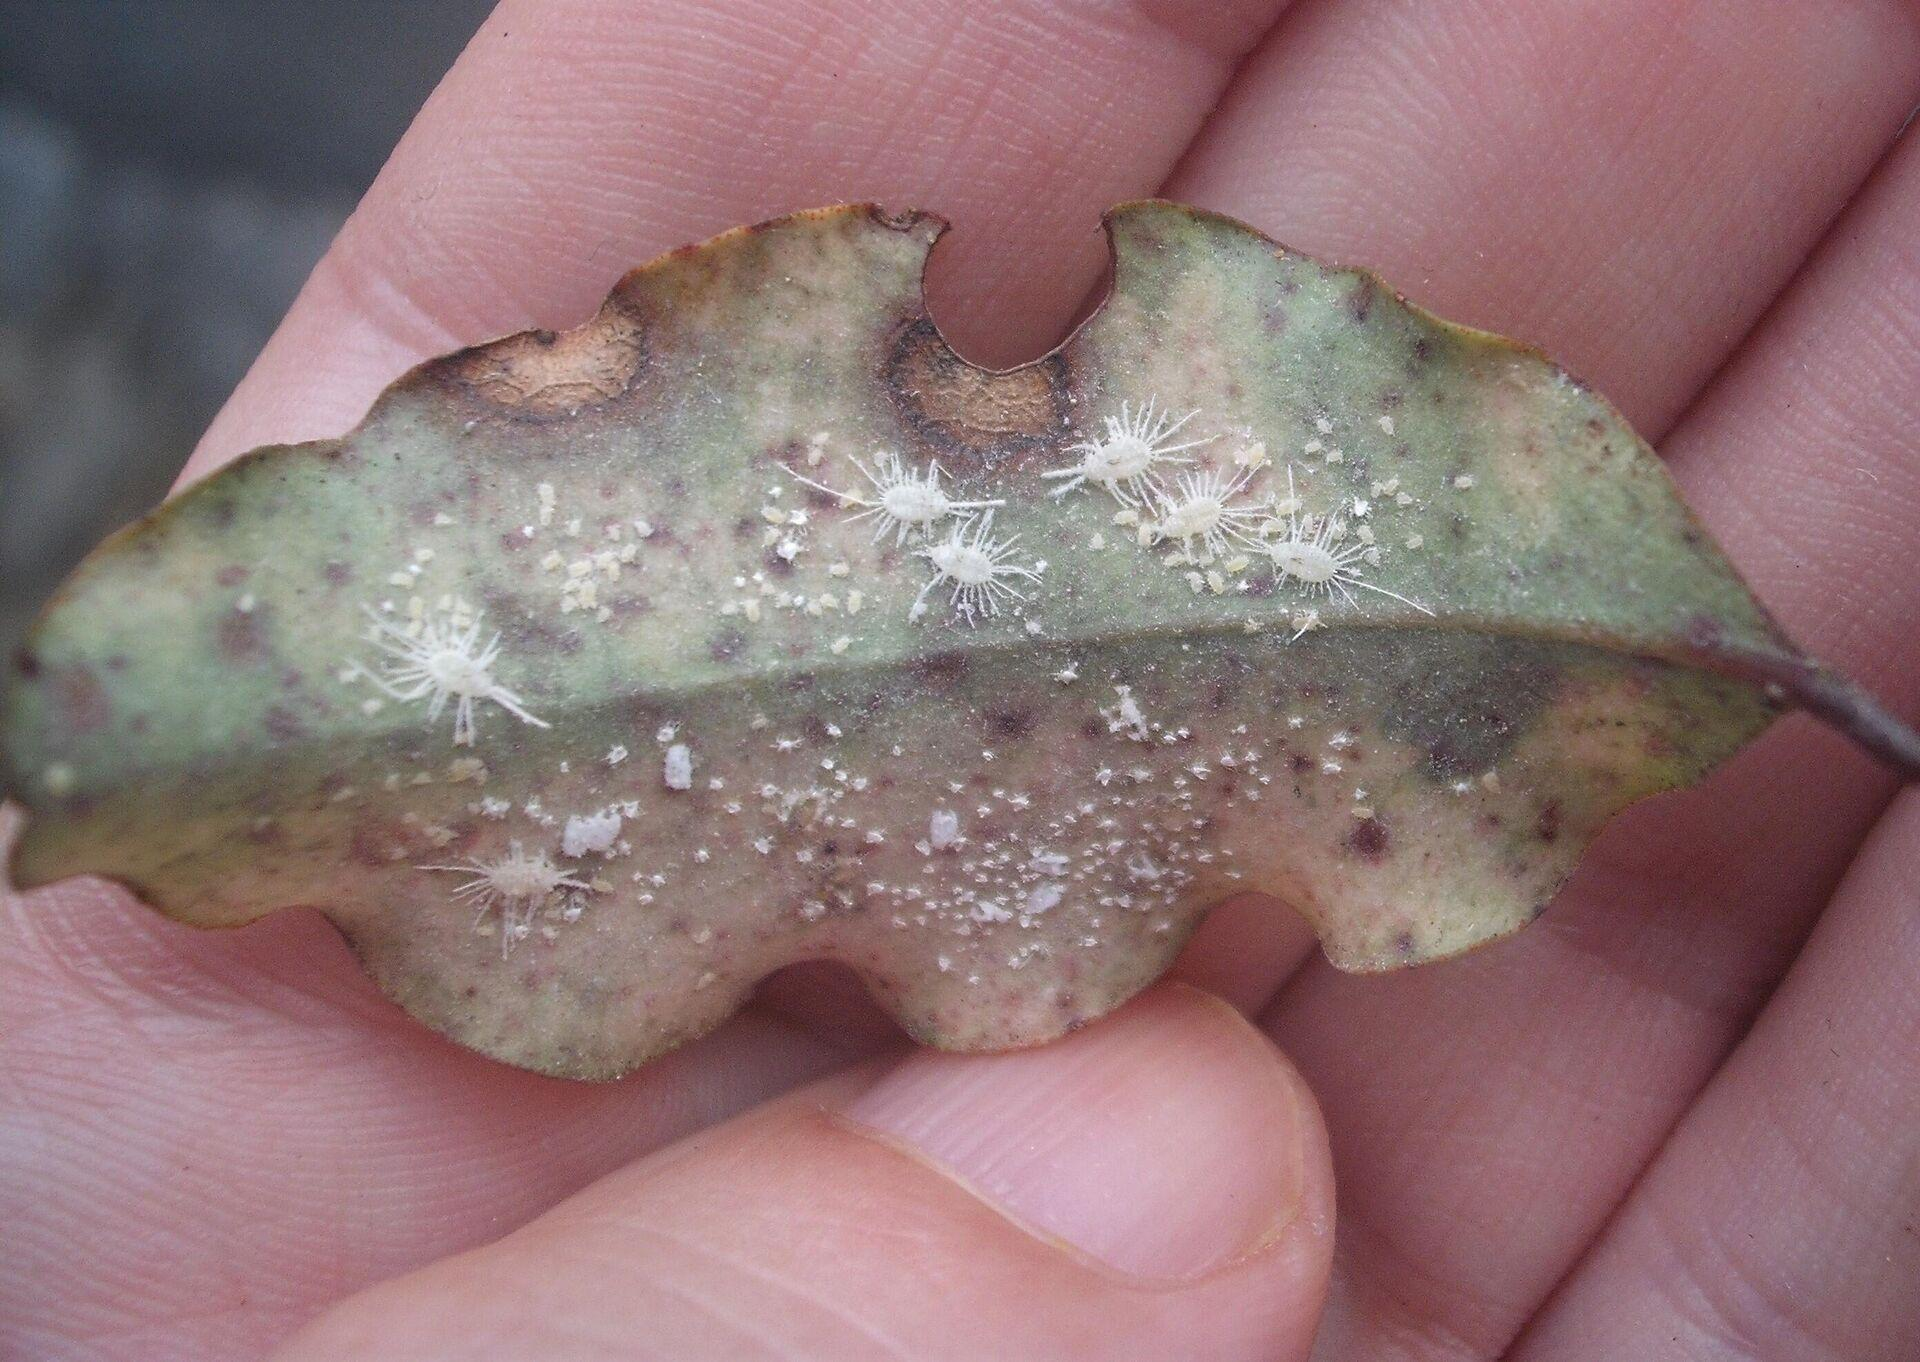pseudococcidae: (324, 397, 1494, 963)
